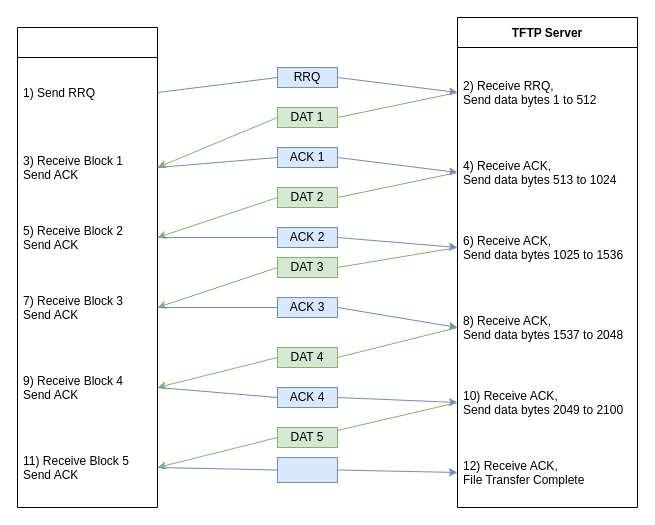
This 655x525 diagram has some shape labels left out. Here are the shapes that lost their labels. From the top down, the box of each, then its label:
(16, 26, 158, 508): TFTP Client
(276, 456, 338, 482): ACK 5
